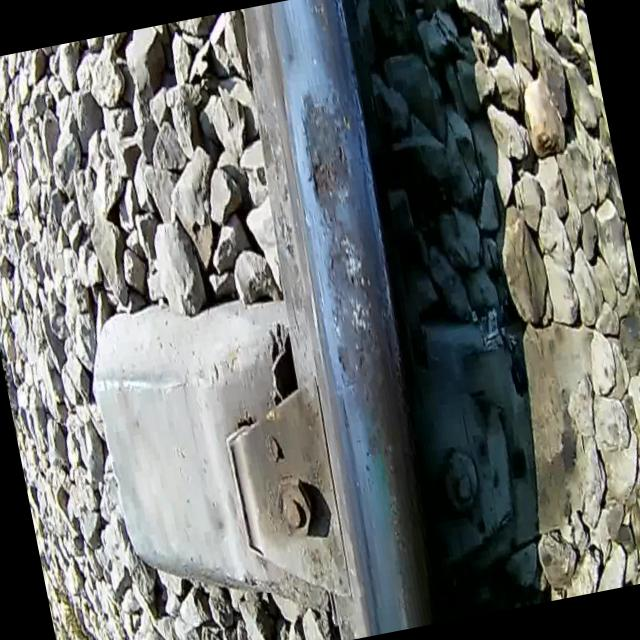Spallings: (314, 230, 388, 388), (300, 134, 356, 209)
Squats: (275, 75, 414, 466)
